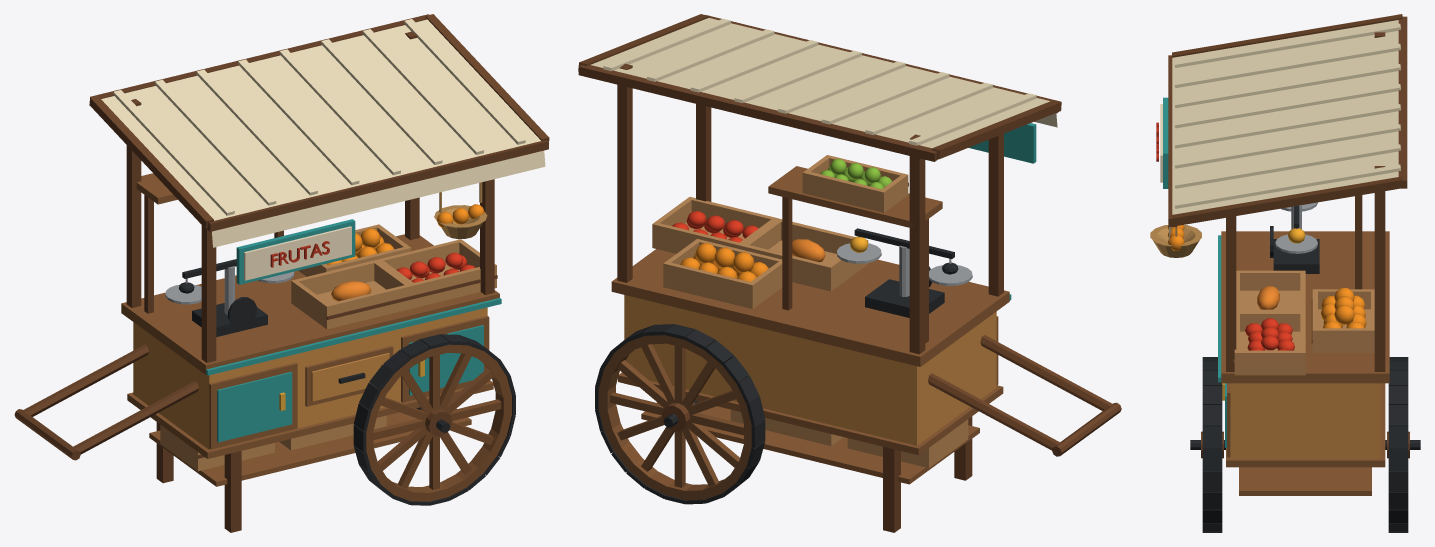
File: carrito-frutas-2.glb
3 renders of one model, left to right at view 1: azimuth 30°, elevation 25°; view 2: azimuth 150°, elevation 25°; view 3: azimuth 270°, elevation 25°, orthographic. The views are drawn at different scales.
Visible parts, largest first — view 1: Carrito_Frutas_2_LonaCrema, Carrito_Frutas_2_MaderaOscura, Carrito_Frutas_2_TapaMadera, Carrito_Frutas_2_CuerpoMiel, Carrito_Frutas_2_MaderaCajon, Carrito_Frutas_2_RuedaMadera, Carrito_Frutas_2_PuertaTurquesa, Carrito_Frutas_2_Hierro, Carrito_Frutas_2_LonaCremaDoble, Carrito_Frutas_2_Crema, Carrito_Frutas_2_FrutaNaranja, Carrito_Frutas_2_MetalClaro (+2 smaller); view 2: Carrito_Frutas_2_MaderaOscura, Carrito_Frutas_2_LonaCrema, Carrito_Frutas_2_TapaMadera, Carrito_Frutas_2_CuerpoMiel, Carrito_Frutas_2_MaderaCajon, Carrito_Frutas_2_RuedaMadera, Carrito_Frutas_2_Hierro, Carrito_Frutas_2_MetalClaro, Carrito_Frutas_2_FrutaNaranja, Carrito_Frutas_2_FrutaTomate, Carrito_Frutas_2_PuertaTurquesa, Carrito_Frutas_2_FrutaLima; view 3: Carrito_Frutas_2_LonaCrema, Carrito_Frutas_2_TapaMadera, Carrito_Frutas_2_MaderaOscura, Carrito_Frutas_2_CuerpoMiel, Carrito_Frutas_2_Hierro, Carrito_Frutas_2_MaderaCajon, Carrito_Frutas_2_FrutaNaranja, Carrito_Frutas_2_FrutaTomate, Carrito_Frutas_2_PuertaTurquesa, Carrito_Frutas_2_Mimbre, Carrito_Frutas_2_MetalClaro, Carrito_Frutas_2_FrutaPapaya.
Boxes of the visible parts, x1,y1,x2,y2 form: Carrito_Frutas_2_LonaCrema: (101, 19, 540, 220); Carrito_Frutas_2_MaderaOscura: (14, 14, 549, 532); Carrito_Frutas_2_TapaMadera: (121, 173, 499, 486); Carrito_Frutas_2_CuerpoMiel: (133, 307, 487, 449); Carrito_Frutas_2_MaderaCajon: (160, 224, 496, 471); Carrito_Frutas_2_RuedaMadera: (366, 344, 511, 501); Carrito_Frutas_2_PuertaTurquesa: (206, 219, 501, 442); Carrito_Frutas_2_Hierro: (179, 259, 515, 505); Carrito_Frutas_2_LonaCremaDoble: (212, 150, 545, 247); Carrito_Frutas_2_Crema: (244, 226, 351, 280); Carrito_Frutas_2_FrutaNaranja: (326, 204, 484, 265); Carrito_Frutas_2_MetalClaro: (165, 266, 294, 314); Carrito_Frutas_2_MaderaOscura: (578, 14, 1121, 532); Carrito_Frutas_2_LonaCrema: (591, 18, 1049, 148); Carrito_Frutas_2_TapaMadera: (611, 166, 1009, 484); Carrito_Frutas_2_CuerpoMiel: (624, 295, 996, 445); Carrito_Frutas_2_MaderaCajon: (652, 155, 968, 467); Carrito_Frutas_2_RuedaMadera: (599, 335, 751, 500); Carrito_Frutas_2_Hierro: (595, 228, 958, 504); Carrito_Frutas_2_MetalClaro: (837, 236, 972, 296); Carrito_Frutas_2_FrutaNaranja: (680, 243, 768, 281); Carrito_Frutas_2_FrutaTomate: (672, 211, 758, 242); Carrito_Frutas_2_PuertaTurquesa: (968, 123, 1036, 300); Carrito_Frutas_2_FrutaLima: (820, 158, 892, 189); Carrito_Frutas_2_LonaCrema: (1172, 20, 1400, 214); Carrito_Frutas_2_TapaMadera: (1221, 231, 1389, 495); Carrito_Frutas_2_MaderaOscura: (1168, 14, 1409, 458); Carrito_Frutas_2_CuerpoMiel: (1230, 383, 1380, 458); Carrito_Frutas_2_Hierro: (1190, 205, 1420, 532); Carrito_Frutas_2_MaderaCajon: (1234, 270, 1374, 375); Carrito_Frutas_2_FrutaNaranja: (1167, 225, 1366, 328); Carrito_Frutas_2_FrutaTomate: (1245, 318, 1294, 350); Carrito_Frutas_2_PuertaTurquesa: (1163, 97, 1226, 447); Carrito_Frutas_2_Mimbre: (1150, 225, 1201, 257); Carrito_Frutas_2_MetalClaro: (1275, 202, 1317, 253); Carrito_Frutas_2_FrutaPapaya: (1257, 286, 1279, 309).
Size of the model in its own units: 2.84 by 2.44 by 1.53.
